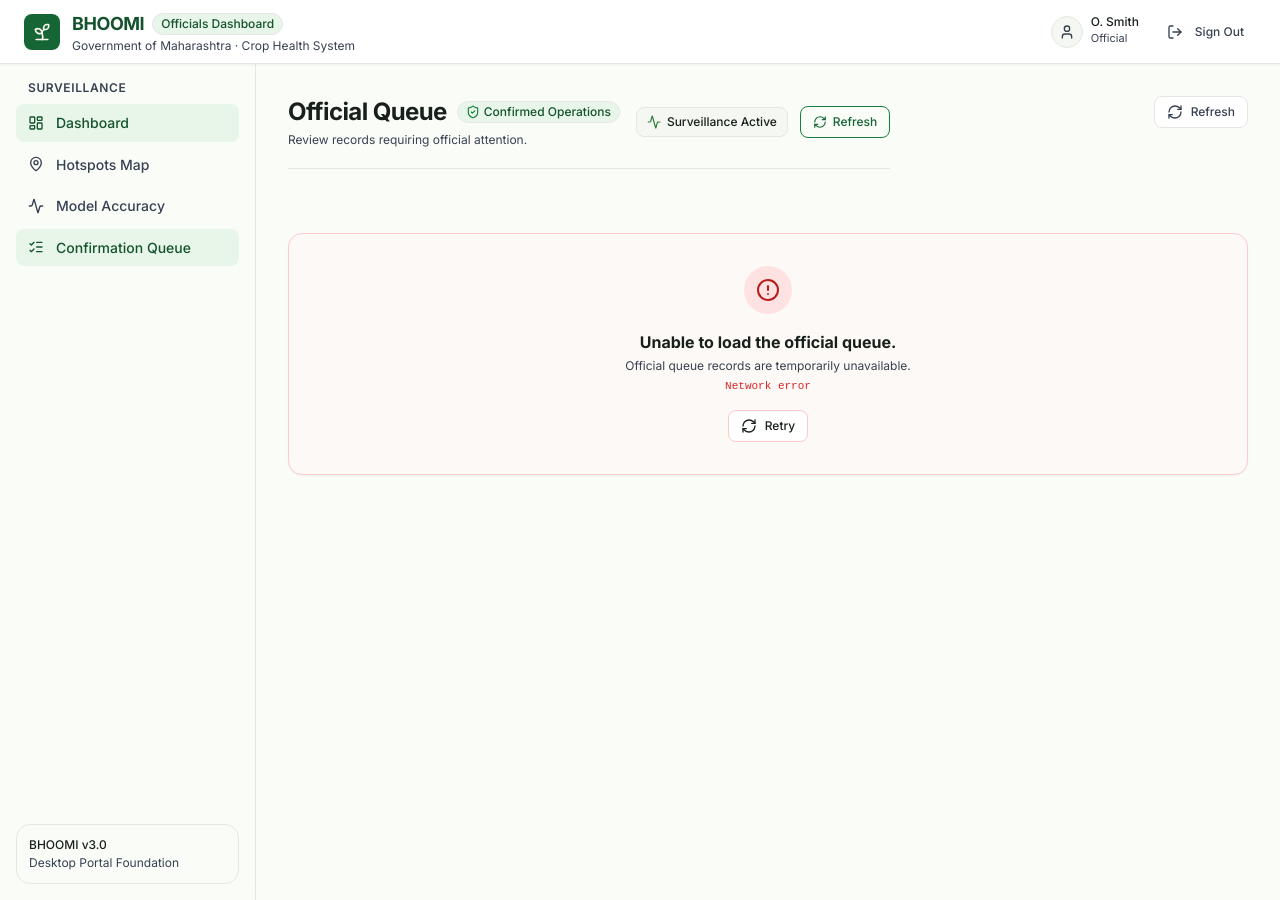
Test: F15 Official Confirmation Queue › Loading, Empty & Error States › displays error state and allows retry on failure
Expected: the heading "Unable to load the official queue." is shown, [640,332,896,352]
Expected: the text "Network error" is shown, [725,380,811,392]
Click the button "Retry": {"x": 768, "y": 426} [728,410,808,442]
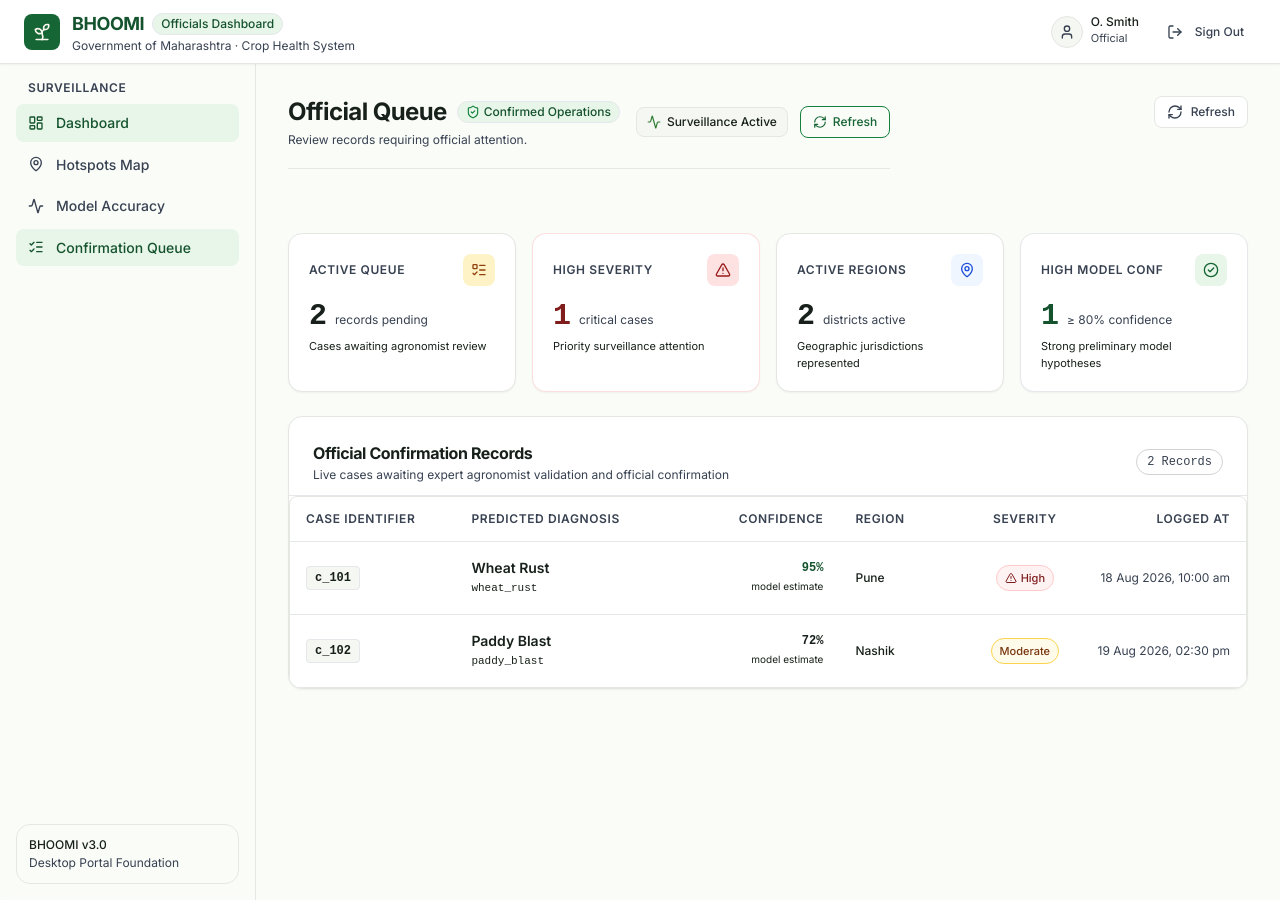
Expected: the text "c_101" is shown, [306,566,360,590]
